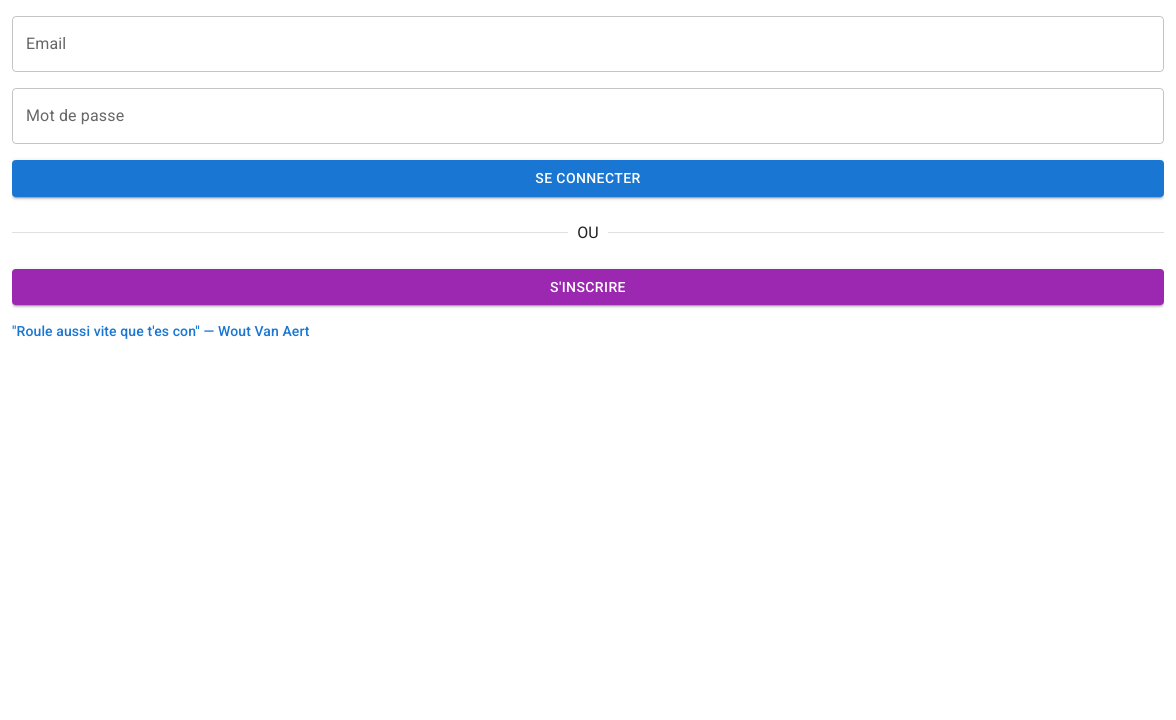
it: LoginForm › devrait gérer l'erreur de connexion
Type "test@example.com" into the field labelled "Email" at [588, 44], box left=12, top=16, right=1164, bottom=72
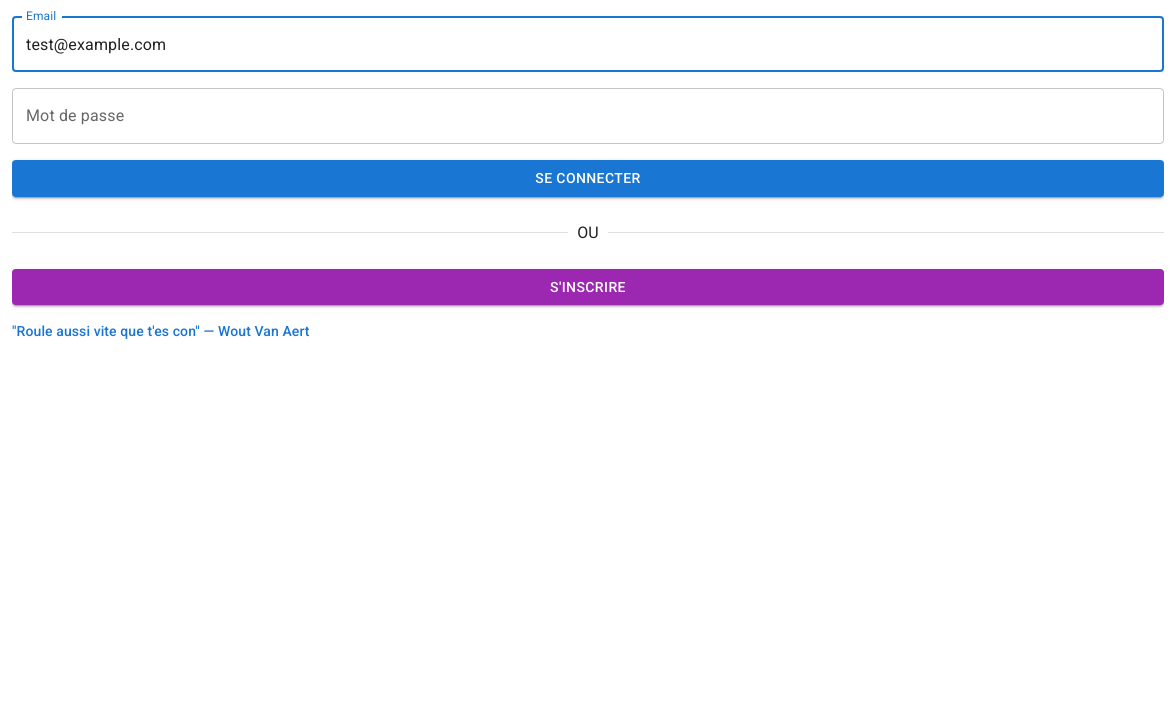
Type "wrongpassword" into the password field labelled "Mot de passe" at [588, 116], box left=12, top=88, right=1164, bottom=144
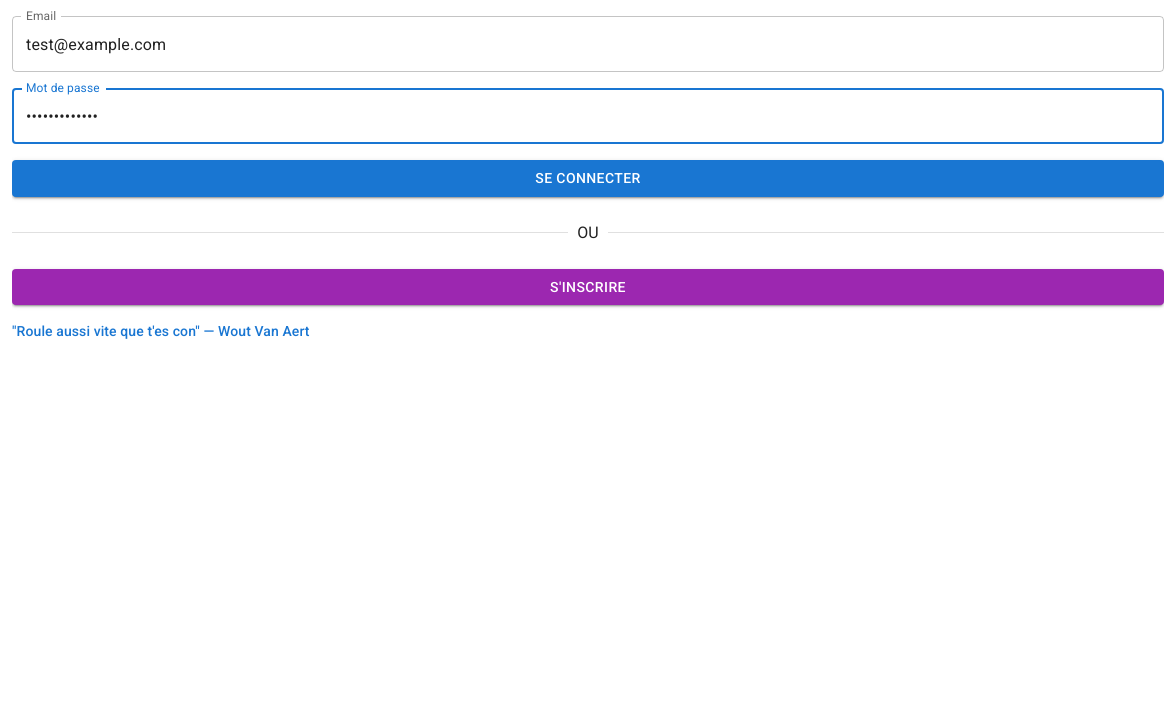
Click the button "Se connecter" at [588, 178], box left=12, top=160, right=1164, bottom=196
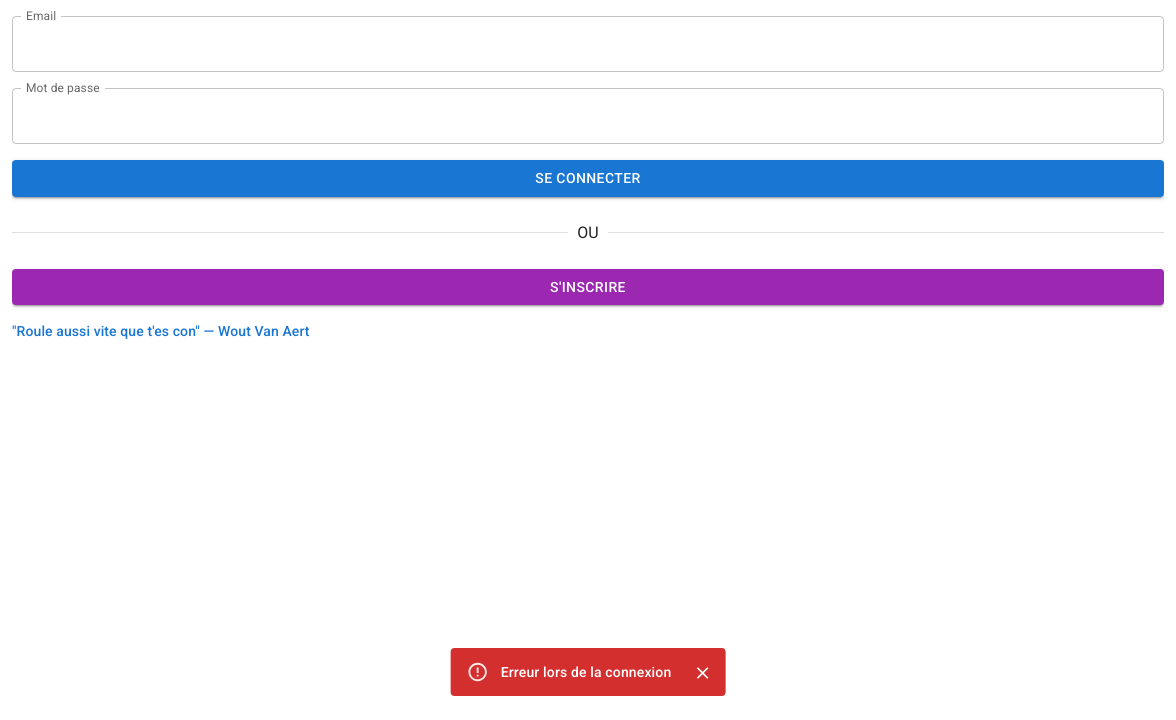
expect the text "Erreur lors de la connexion" is shown: met, box left=501, top=664, right=671, bottom=680
